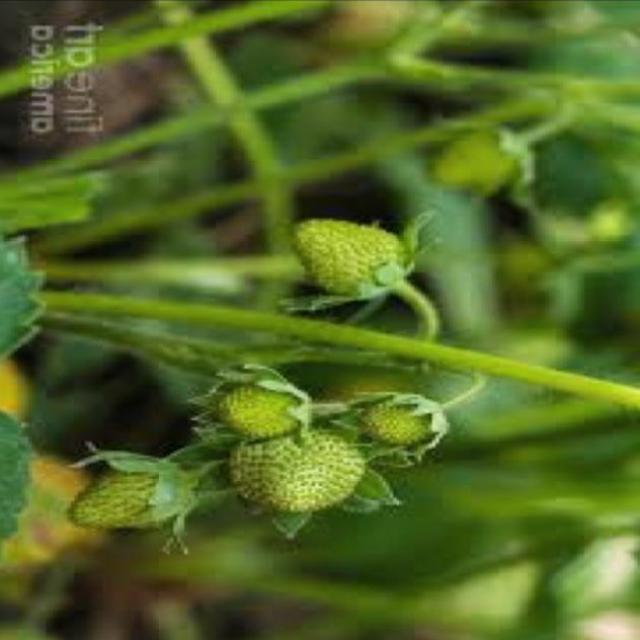Healthy Fruit: (228, 426, 366, 515), (292, 216, 408, 297), (215, 383, 301, 441)
